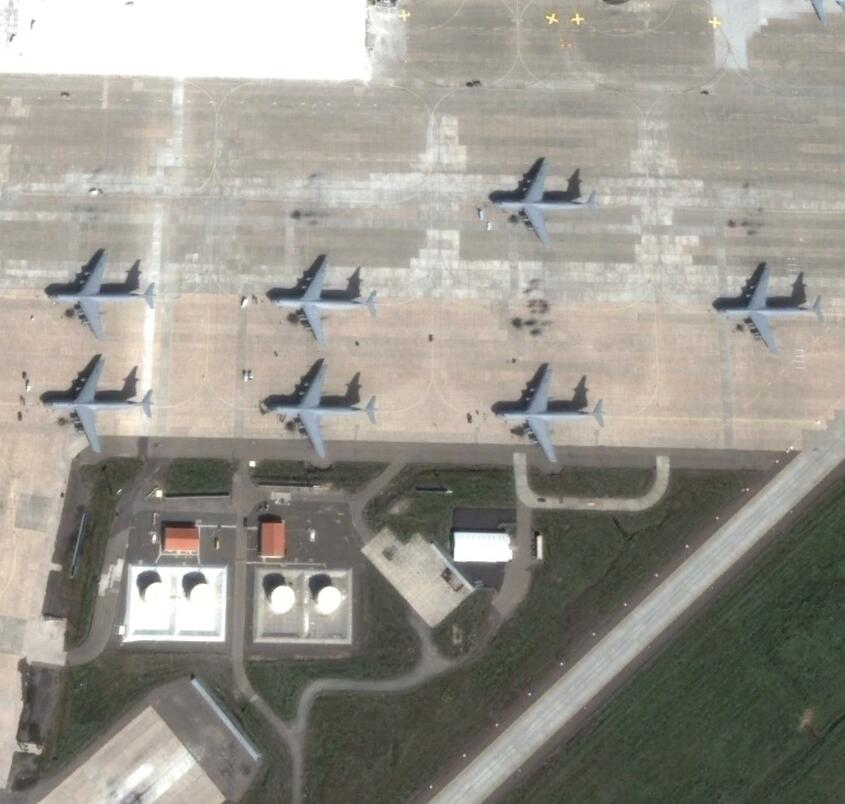A4: (260, 358, 379, 457), (42, 357, 156, 455), (495, 368, 609, 462), (266, 253, 378, 347), (44, 249, 156, 340), (491, 157, 601, 248), (716, 264, 825, 355)
